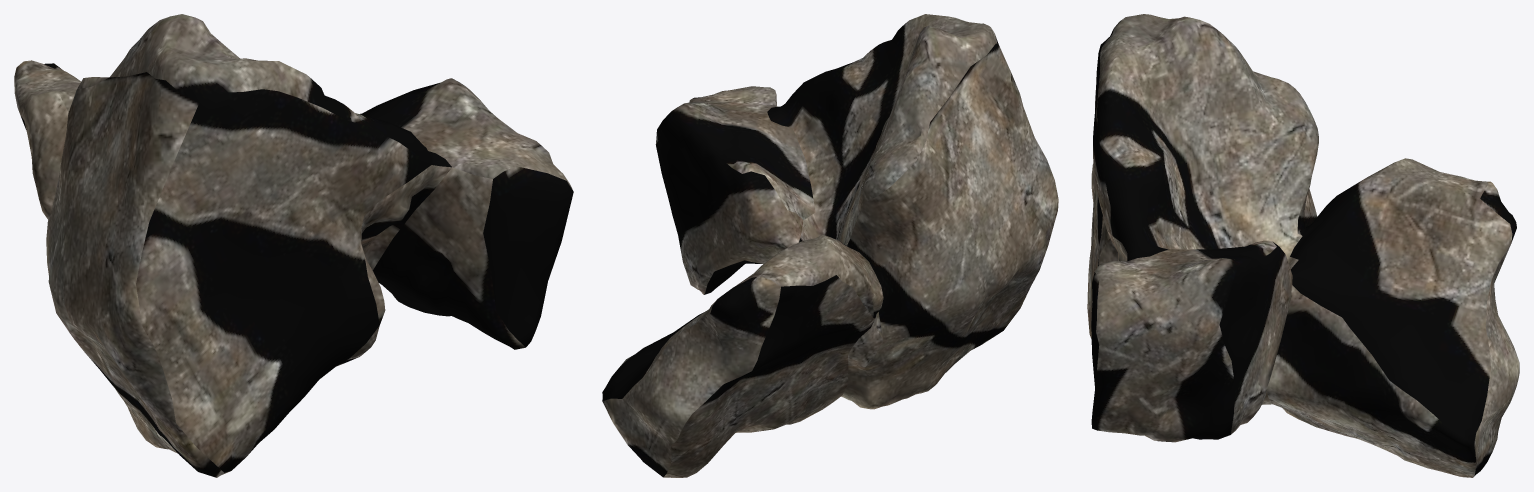
The model's file is rock6.glb.
3 renders of one model, left to right at view 1: azimuth 30°, elevation 25°; view 2: azimuth 150°, elevation 25°; view 3: azimuth 270°, elevation 25°, orthographic. The views are drawn at different scales.
Visible parts, largest first — view 1: Rock6; view 2: Rock6; view 3: Rock6.
Part boxes in pixels (x1,y1,x2,y2): Rock6: [14, 14, 573, 477]; Rock6: [602, 14, 1058, 477]; Rock6: [1087, 14, 1519, 477].
Bounding box in the file's own units: 4.61 × 4.79 × 4.73.
Materials: 1 (1 with a texture image).
